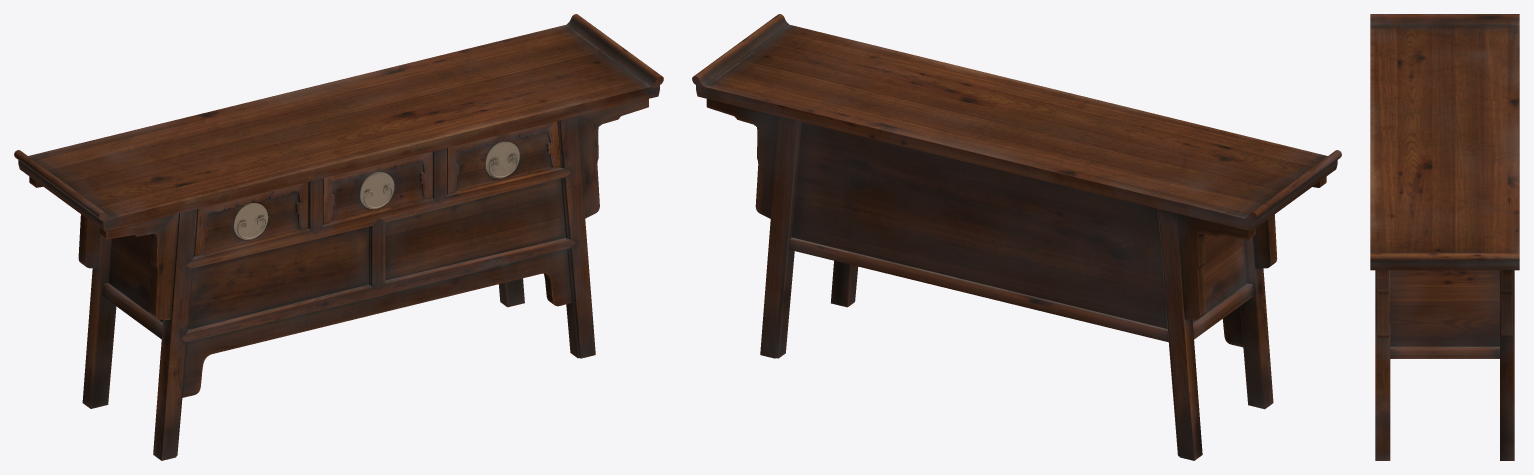
3 views of the same model, side by side, from view 1: azimuth 30°, elevation 25°; view 2: azimuth 150°, elevation 25°; view 3: azimuth 270°, elevation 25° (orthographic). The views are drawn at different scales.
Parts seen in each view (by area): view 1: body, drawer_3, drawer_1, drawer_2; view 2: body; view 3: body.
Part boxes in pixels (x1,y1,x2,y2): body: (14,14,663,460); drawer_3: (447,121,560,194); drawer_1: (194,182,307,256); drawer_2: (323,151,432,224); body: (692,14,1341,460); body: (1370,14,1519,460).
Bounding box in the file's own units: 4.49 × 2.02 × 1.17.
1 material, 1 textured.
